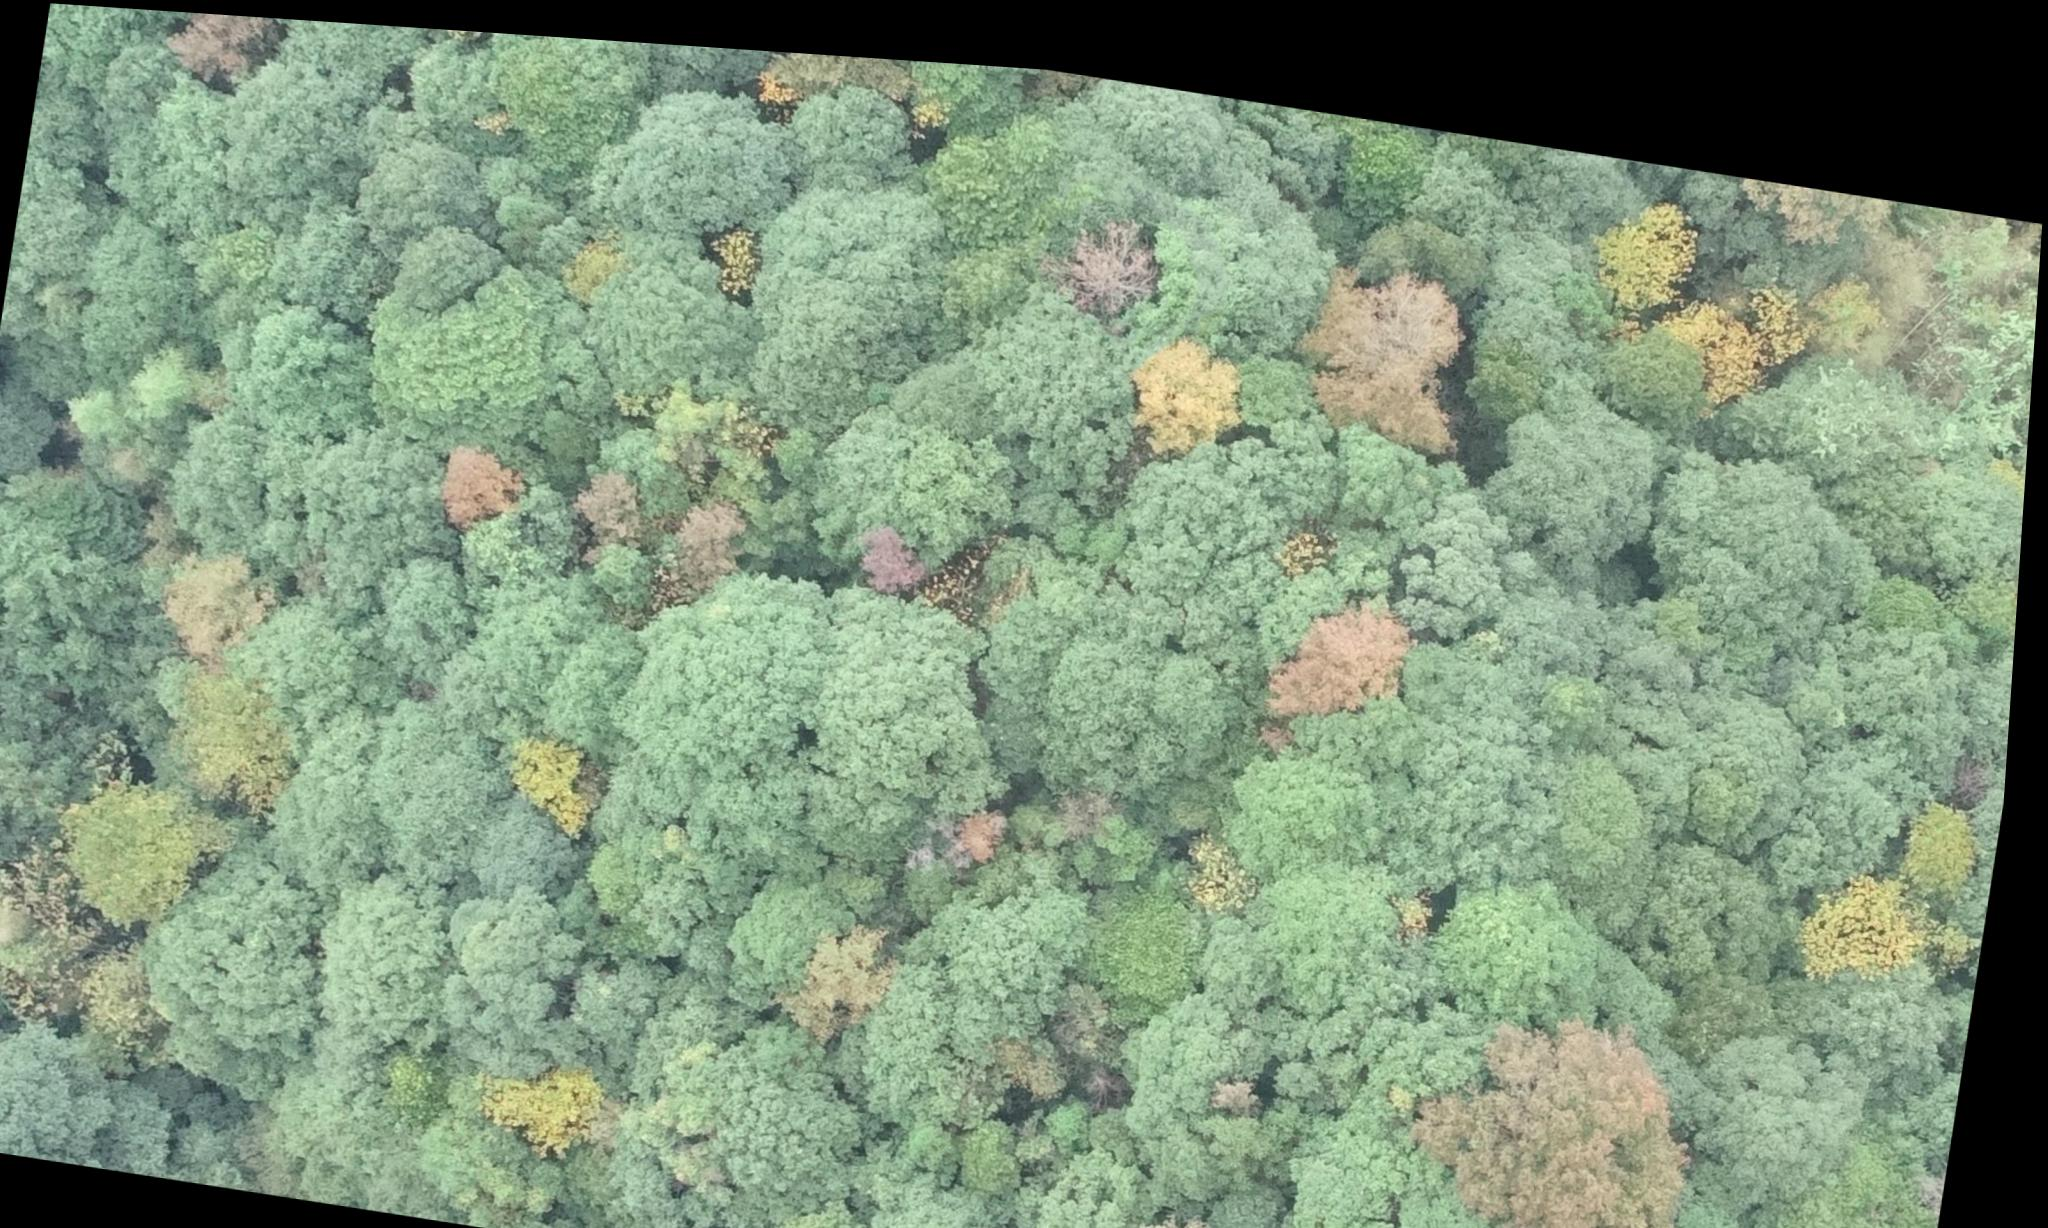heavy: (1367, 952, 1742, 1228), (1285, 192, 1507, 450), (1263, 556, 1452, 715), (1115, 303, 1254, 450), (152, 9, 285, 117)
